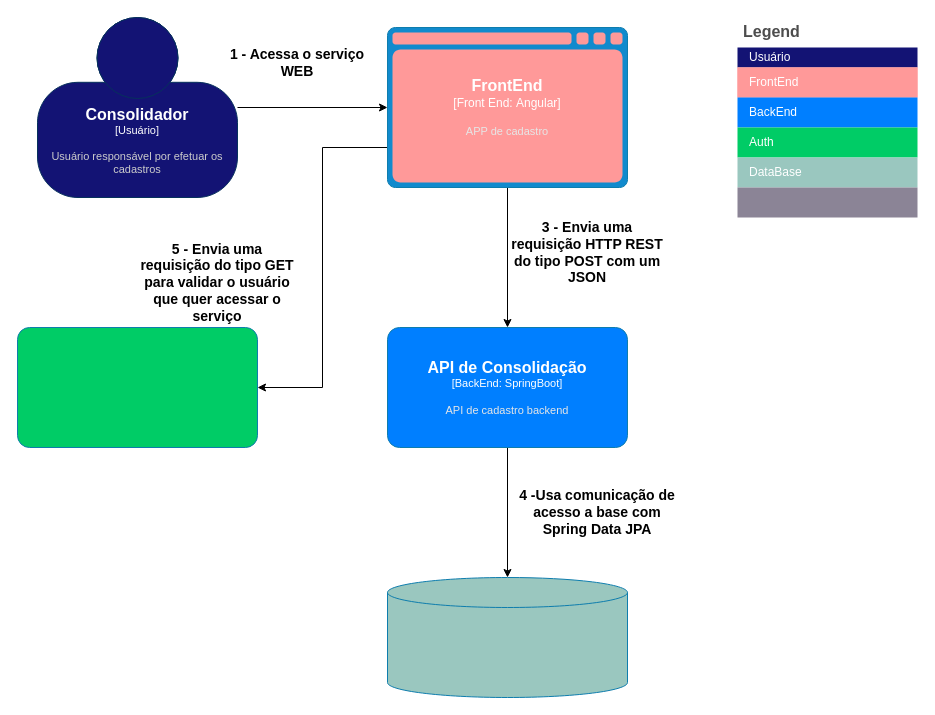
Some shapes in this 935 by 715 pixel diagram are drawn without their labels. Each missing label, with the box of its shape:
API de autenticação [Auth: SpringBoot] API de autenticação de usuários: (16, 326, 258, 448)
DataBase [Container: PostegreSQL] Base de dados de cadastro de visitantes: (386, 576, 628, 698)
